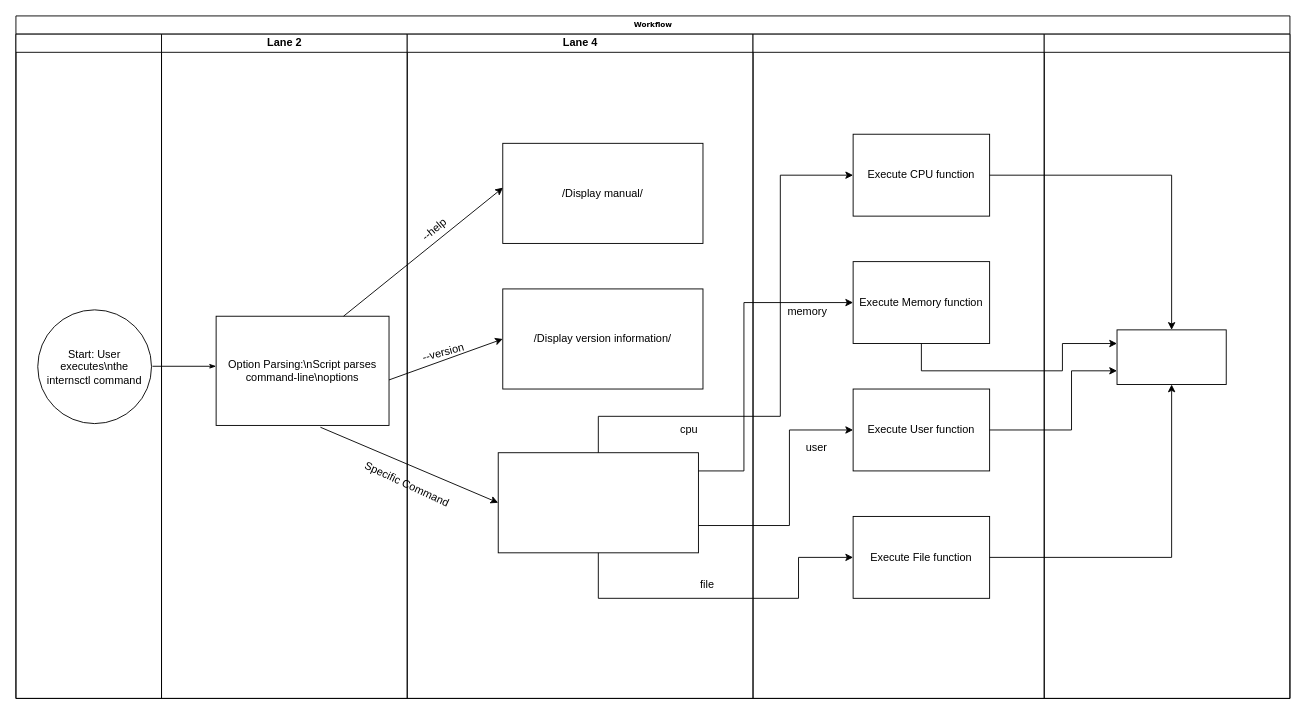
Some shapes in this 1306 by 714 pixel diagram are drawn without their labels. The box of each missing label's shape, as (x1, y1, x2, y2) in pixels:
Command Routing: (497, 452, 698, 553)
Lane 1: (15, 33, 162, 698)
Lane 5: (752, 33, 1044, 698)
Lane 6: (1043, 33, 1290, 698)
Output Display: Display results to user: (1116, 329, 1226, 384)
